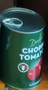tomatoes: (1, 7, 44, 89)
